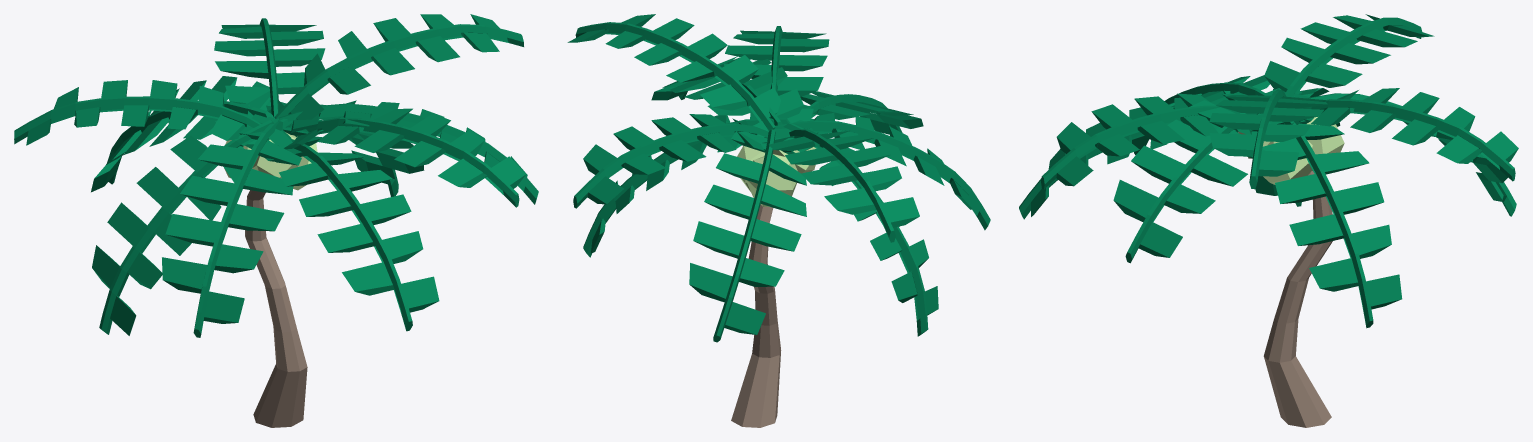
File: coco_tree_02.fbx
The picture shows the model from 3 angles, left to right: view 1: azimuth 30°, elevation 25°; view 2: azimuth 150°, elevation 25°; view 3: azimuth 270°, elevation 25°; orthographic projection. The views are drawn at different scales.
Parts seen in each view (by area): view 1: coco_tree_2; view 2: coco_tree_2; view 3: coco_tree_2.
Part boxes in pixels (bbox=[...]): coco_tree_2: bbox=[14, 14, 538, 427]; coco_tree_2: bbox=[567, 14, 990, 427]; coco_tree_2: bbox=[1019, 14, 1518, 427].
Size of the model in its own units: 3215 by 2625 by 3245.
